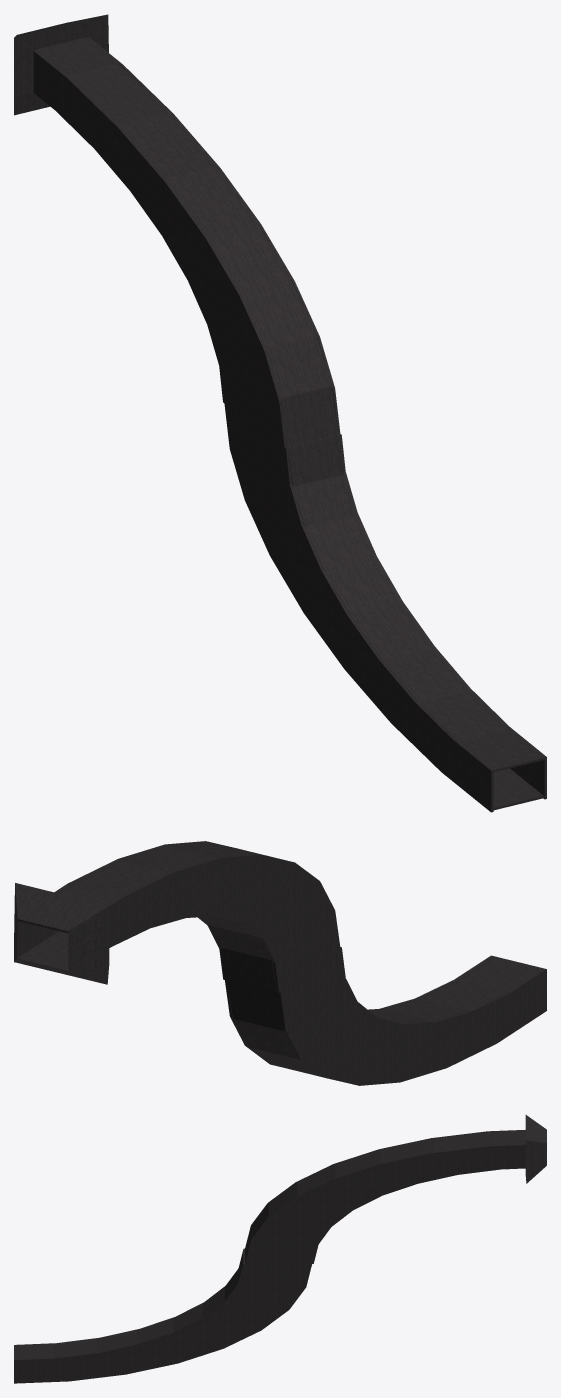
The model's file is br_base_tunnel.fbx.
3 views of the same model, one above another, from view 1: azimuth 30°, elevation 25°; view 2: azimuth 150°, elevation 25°; view 3: azimuth 270°, elevation 25° (orthographic). The views are drawn at different scales.
Parts seen in each view (by area): view 1: Object; view 2: Object; view 3: Object.
Boxes of the visible parts, x1,y1,x2,y2 form: Object: (14, 14, 546, 812); Object: (14, 841, 546, 1085); Object: (14, 1115, 546, 1383).
Size of the model in its own units: 4100 by 18281 by 35499.
